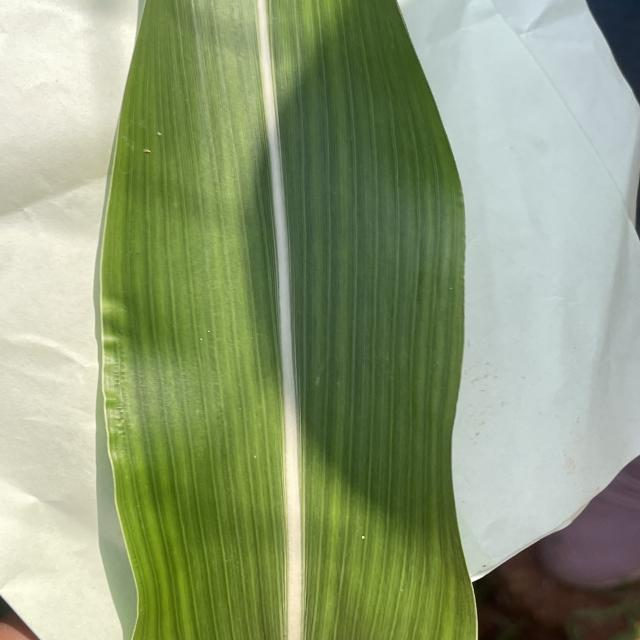millet_healthy: (100, 0, 476, 640)
